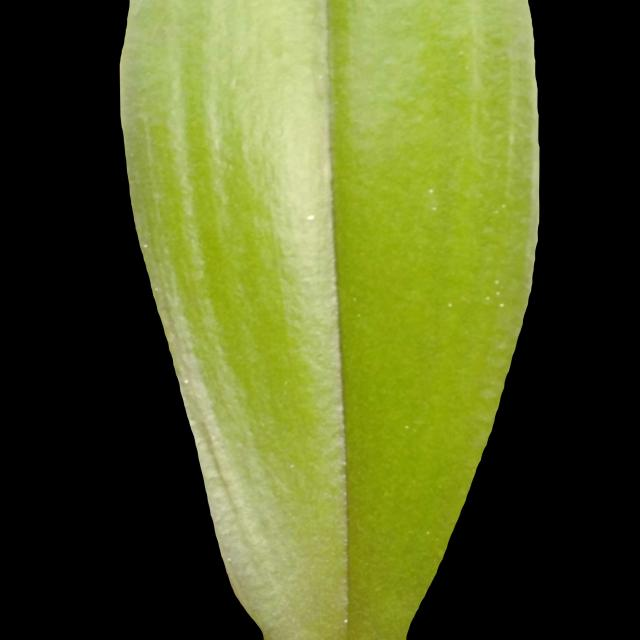mite: (420, 182, 509, 312), (439, 274, 511, 317), (443, 289, 508, 312), (481, 275, 510, 312), (419, 179, 445, 218), (398, 415, 425, 438), (424, 184, 440, 213), (301, 206, 320, 228), (441, 294, 458, 314), (478, 385, 496, 401), (305, 212, 316, 223), (445, 299, 455, 310), (425, 185, 436, 195), (401, 422, 411, 433), (483, 292, 493, 303), (429, 202, 438, 213), (140, 241, 149, 251), (492, 277, 502, 286), (497, 300, 506, 309)
spots: (117, 1, 542, 637)
